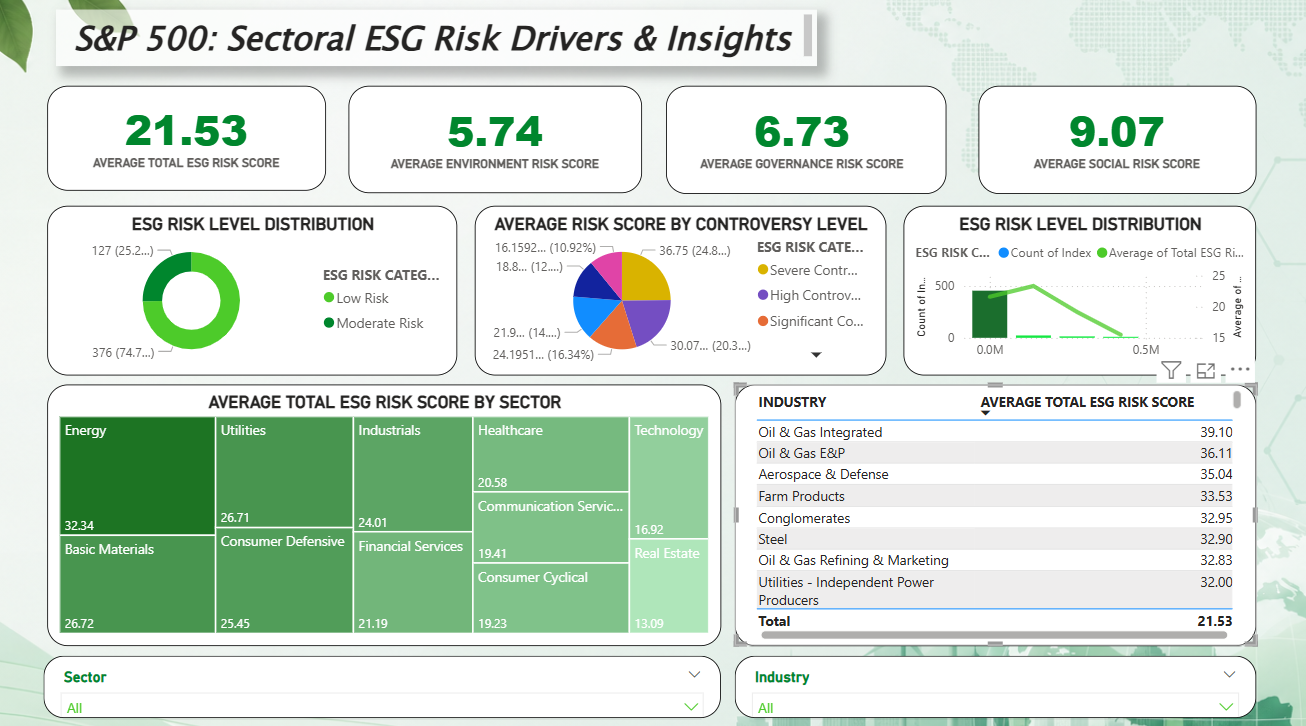

Layout of this report page (visuals, bound fields, positions):
{"tool":"powerbi","page":{"name":"Page 1","canvas":[1280,720],"ordinal":0},"visuals":[{"type":"card","fields":{"Values":["Avg(SP 500 ESG Risk Ratings.Total ESG Risk score)"]},"box":[50,91.7,272.2,102.8],"z":0},{"type":"card","fields":{"Values":["Avg(SP 500 ESG Risk Ratings.Environment Risk Score)"]},"box":[344.4,88.9,286.1,105.6],"z":1000},{"type":"card","fields":{"Values":["Avg(SP 500 ESG Risk Ratings.Governance Risk Score)"]},"box":[654.2,86.1,273.6,105.6],"z":2000},{"type":"card","fields":{"Values":["Avg(SP 500 ESG Risk Ratings.Social Risk Score)"]},"box":[958.3,86.1,270.8,105.6],"z":3000},{"type":"donutChart","title":"ESG RISK LEVEL DISTRIBUTION","fields":{"Category":["SP 500 ESG Risk Ratings.ESG Risk Category"],"Y":["CountNonNull(SP 500 ESG Risk Ratings.Index)"]},"box":[50,203.7,400,165.9],"z":4000},{"type":"treemap","fields":{"Group":["SP 500 ESG Risk Ratings.Sector"],"Values":["Avg(SP 500 ESG Risk Ratings.Total ESG Risk score)"]},"box":[50,378,657.3,254.9],"z":5000},{"type":"tableEx","fields":{"Values":["SP 500 ESG Risk Ratings.Industry","Avg(SP 500 ESG Risk Ratings.Total ESG Risk score)"]},"box":[720.7,378,508.5,254.9],"z":6000},{"type":"pieChart","title":"AVERAGE RISK SCORE BY CONTROVERSY LEVEL","fields":{"Category":["SP 500 ESG Risk Ratings.Controversy Level"],"Y":["Avg(SP 500 ESG Risk Ratings.Total ESG Risk score)"]},"box":[467.1,203.7,401.2,165.9],"z":7000},{"type":"lineStackedColumnComboChart","title":"ESG RISK LEVEL DISTRIBUTION","fields":{"Category":["SP 500 ESG Risk Ratings.Full Time Employees (bins)"],"Y":["CountNonNull(SP 500 ESG Risk Ratings.Index)"],"Y2":["Avg(SP 500 ESG Risk Ratings.Total ESG Risk score)"]},"box":[885.4,203.7,343.9,165.9],"z":8000},{"type":"slicer","fields":{"Values":["SP 500 ESG Risk Ratings.Industry"]},"box":[720.7,642.7,508.5,61],"z":9000},{"type":"slicer","fields":{"Values":["SP 500 ESG Risk Ratings.Sector"]},"box":[46.3,642.7,661,61],"z":10000},{"type":"textbox","box":[58.5,12.2,742.7,54.9],"z":11000}]}

Visuals, with their boxes in screenshot pixels (x1, y1, x2, y2), scaled from the page's 1280x720 canvas onto the 1306x726 screenshot:
card - Avg(SP 500 ESG Risk Ratings.Total ESG Risk score): rect(51, 92, 329, 196)
card - Avg(SP 500 ESG Risk Ratings.Environment Risk Score): rect(351, 90, 643, 196)
card - Avg(SP 500 ESG Risk Ratings.Governance Risk Score): rect(667, 87, 947, 193)
card - Avg(SP 500 ESG Risk Ratings.Social Risk Score): rect(978, 87, 1254, 193)
"ESG RISK LEVEL DISTRIBUTION" donutChart: rect(51, 205, 459, 373)
treemap - SP 500 ESG Risk Ratings.Sector x Avg(SP 500 ESG Risk Ratings.Total ESG Risk score): rect(51, 381, 722, 638)
tableEx - SP 500 ESG Risk Ratings.Industry x Avg(SP 500 ESG Risk Ratings.Total ESG Risk score): rect(735, 381, 1254, 638)
"AVERAGE RISK SCORE BY CONTROVERSY LEVEL" pieChart: rect(477, 205, 886, 373)
"ESG RISK LEVEL DISTRIBUTION" lineStackedColumnComboChart: rect(903, 205, 1254, 373)
slicer - SP 500 ESG Risk Ratings.Industry: rect(735, 648, 1254, 710)
slicer - SP 500 ESG Risk Ratings.Sector: rect(47, 648, 722, 710)
textbox: rect(60, 12, 817, 68)
